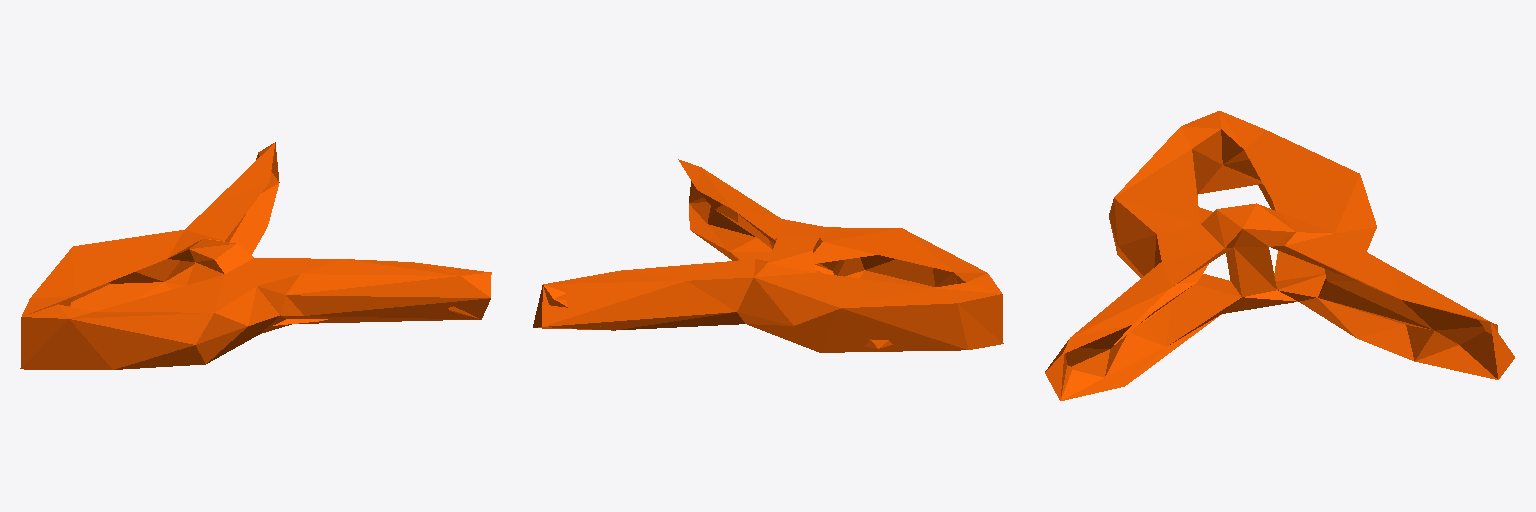
URDF robot description (052_extra_large_clamp):
<?xml version="1.0" ?>
<robot name="052_extra_large_clamp">
   <material name="obj_color">
      <color rgba="1.0 0.423529411765 0.0392156862745 1.0"/>
   </material>
   <link name="top">
      <inertial>
         <origin rpy="0.0002699212983241704 0.0004586286157574347 0.0007050975492706986" xyz="-0.01260797279767798 -0.001406554392096706 0.0005895843034884535"/>
         <mass value="0.2023688106343902"/>
         <inertia ixx="0.0002773992825606432" ixy="-3.681250240321436e-05" ixz="8.510506147831619e-07" iyy="0.0004511601403524856" iyz="-1.326696851386513e-06" izz="0.000705088040439175"/>
      </inertial>
      <visual>
         <origin rpy="0 0 0" xyz="0 0 0"/>
         <geometry>
            <mesh filename="top_watertight_tiny.stl" scale="1 1 1"/>
         </geometry>
         <material name="obj_color"/>
      </visual>
      <collision>
         <origin rpy="0 0 0" xyz="0 0 0"/>
         <geometry>
            <mesh filename="top_watertight_tiny.obj" scale="1 1 1"/>
         </geometry>
      </collision>
   </link>
   <link name="bottom">
      <inertial>
         <origin rpy="1.633333333199431e-08 1.633333333199431e-08 1.633333333362855e-08" xyz="0.3464080000000008 0.3464080000000008 0.3464080000000008"/>
         <mass value="0.0009800000000000017"/>
         <inertia ixx="1.633333333253906e-08" ixy="5.447480642029219e-19" ixz="5.447480642029219e-19" iyy="1.633333333253906e-08" iyz="5.447480642029219e-19" izz="1.633333333253906e-08"/>
      </inertial>
      <visual>
         <origin rpy="0 0 0" xyz="0 0 0"/>
         <geometry>
            <mesh filename="bottom_watertight_tiny.stl" scale="1 1 1"/>
         </geometry>
         <material name="obj_color"/>
      </visual>
   </link>
   <link name="world"/>
   <joint name="world_to_base" type="fixed">
      <origin xyz="0 0 0"/>
      <axis xyz="0 0 0"/>
      <parent link="world"/>
      <child link="bottom"/>
   </joint>
   <joint name="rotation" type="revolute">
      <origin xyz="0 0 0"/>
      <axis xyz="0 0 -1"/>
      <parent link="bottom"/>
      <child link="top"/>
      <dynamics damping="1.0" friction="1.0"/>
      <limit effort="0.1" velocity="0.1" lower="0" upper="0.001"/>
   </joint>
</robot>

--- Render facts (derived) ---
Views: 3 orthographic renders of the robot side by side, from view 1: azimuth 30°, elevation 25°; view 2: azimuth 150°, elevation 25°; view 3: azimuth 270°, elevation 25°.
Robot: 052_extra_large_clamp — 3 links, 2 joints (1 revolute, 1 fixed); root link world; default pose: all joints at 0.
Visible links, largest first — view 1: top; view 2: top; view 3: top.
Link boxes in pixels (<box>): top: <box>20,142,491,369</box>; top: <box>533,159,1003,352</box>; top: <box>1045,111,1514,400</box>.
Size in the robot's own frame: 0.2007 by 0.1683 by 0.0352 metres.
Meshes: 2 distinct files referenced, 1 mesh visuals loaded (1 binary STL); not drawn: 1 (reference not matched to a file when rendering).
